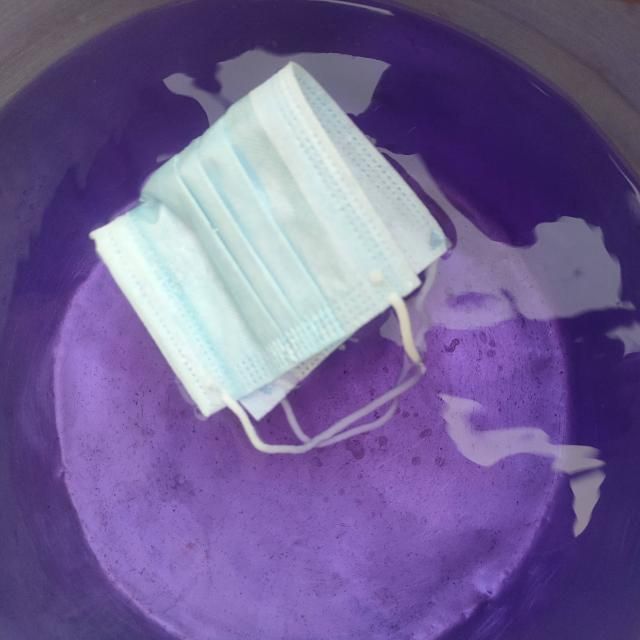litter: (73, 52, 456, 479)
